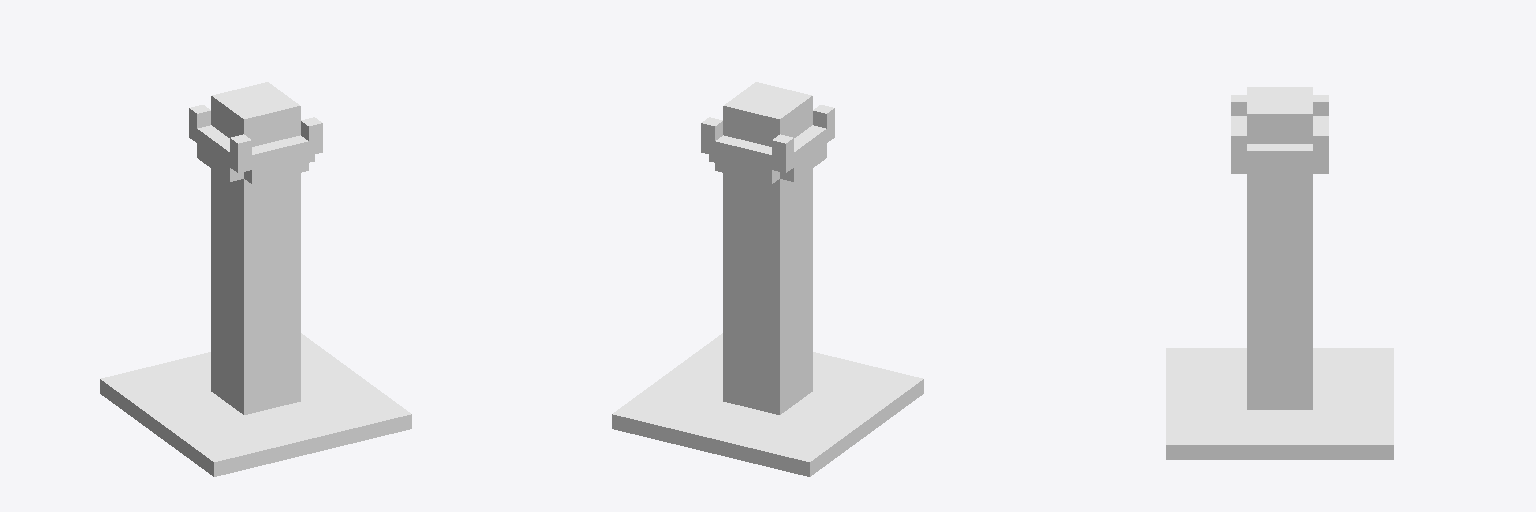
The model's file is Repeater-1-Repeater.obj.
The picture shows the model from 3 angles: view 1: azimuth 30°, elevation 25°; view 2: azimuth 150°, elevation 25°; view 3: azimuth 270°, elevation 25°; orthographic projection.
Parts seen in each view (by area): view 1: Repeater; view 2: Repeater; view 3: Repeater.
Part boxes in pixels (bbox=[...]): Repeater: bbox=[100, 82, 411, 476]; Repeater: bbox=[612, 82, 923, 476]; Repeater: bbox=[1166, 87, 1393, 459].
Size of the model in its own units: 1.4 by 2.1 by 1.4.